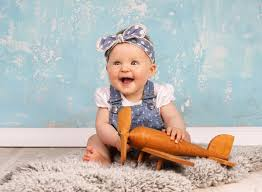child: (87, 23, 209, 163)
